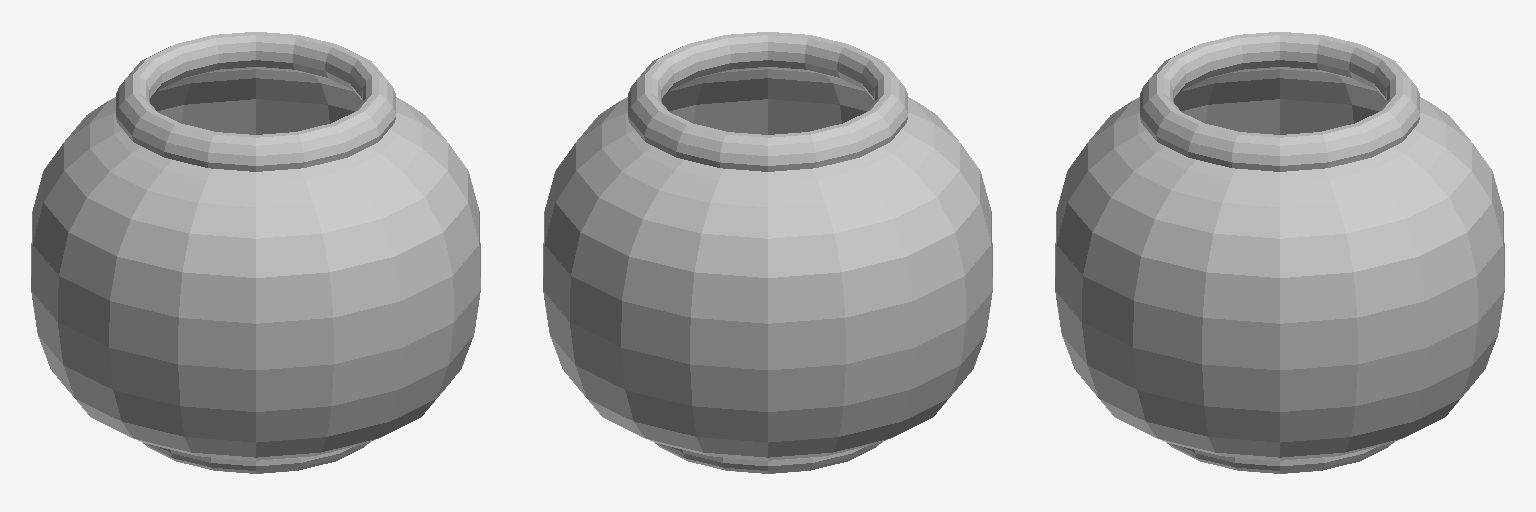
The model's file is chestAndFishAndBowlObj.obj.
3 views of the same model, side by side, from view 1: azimuth 30°, elevation 25°; view 2: azimuth 150°, elevation 25°; view 3: azimuth 270°, elevation 25° (orthographic).
Visible parts, largest first — view 1: FishBowl; view 2: FishBowl; view 3: FishBowl.
Part boxes in pixels (x1,y1,x2,y2): FishBowl: (31, 32, 480, 473); FishBowl: (543, 32, 992, 473); FishBowl: (1055, 32, 1504, 473).
Bounding box in the file's own units: 19.55 × 16.13 × 19.19.